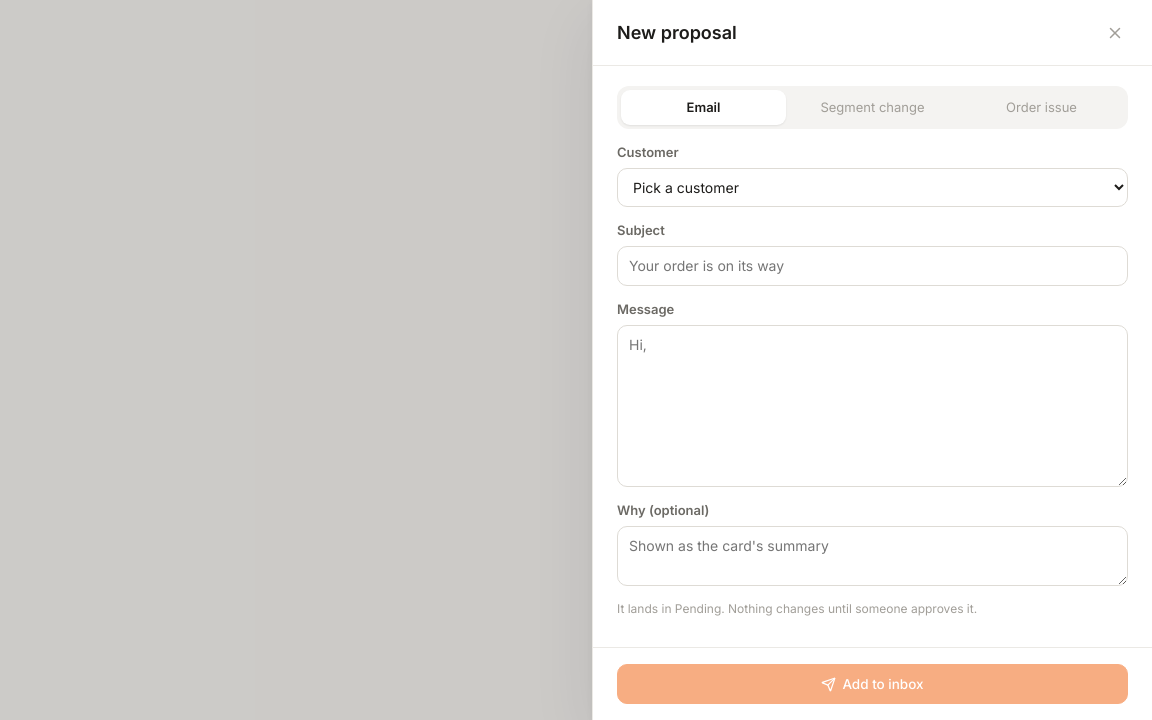
Test: NewProposal › shows the server error instead of closing
Select "Bob Smith · New · ₹999" in the dropdown labelled "Customer" at (872, 187), box top-left (617, 168), bottom-right (1128, 207)
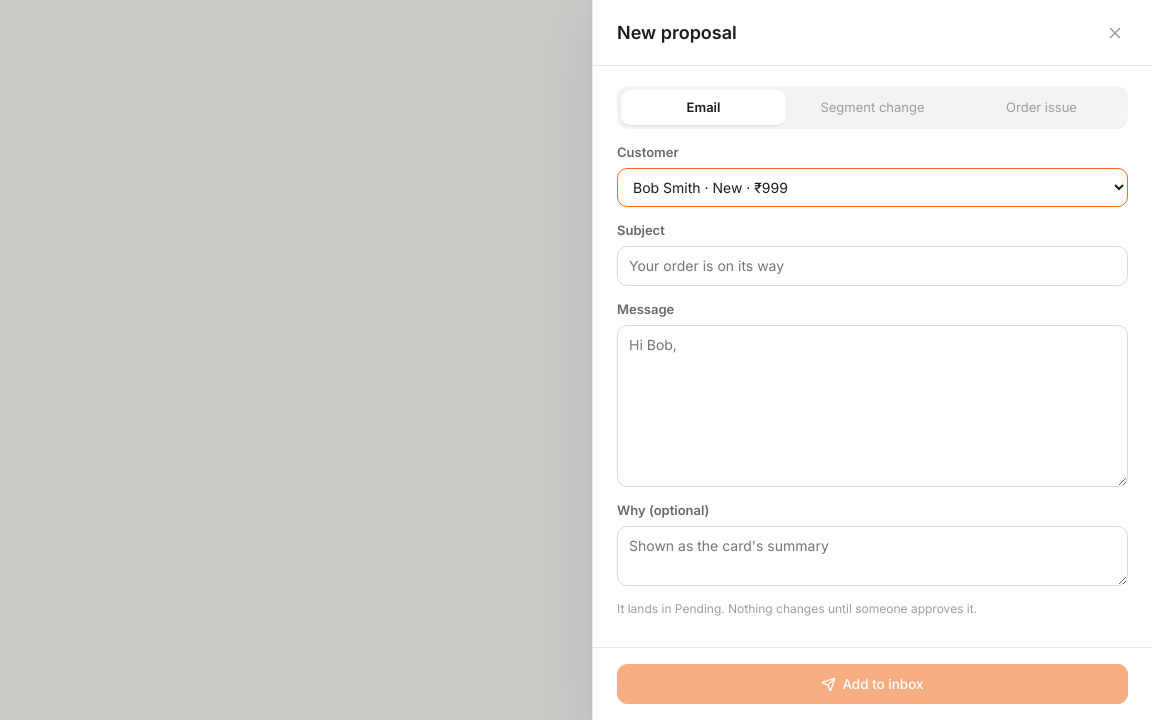
Type "a" into the field labelled "Subject" at (872, 266), box top-left (617, 246), bottom-right (1128, 286)
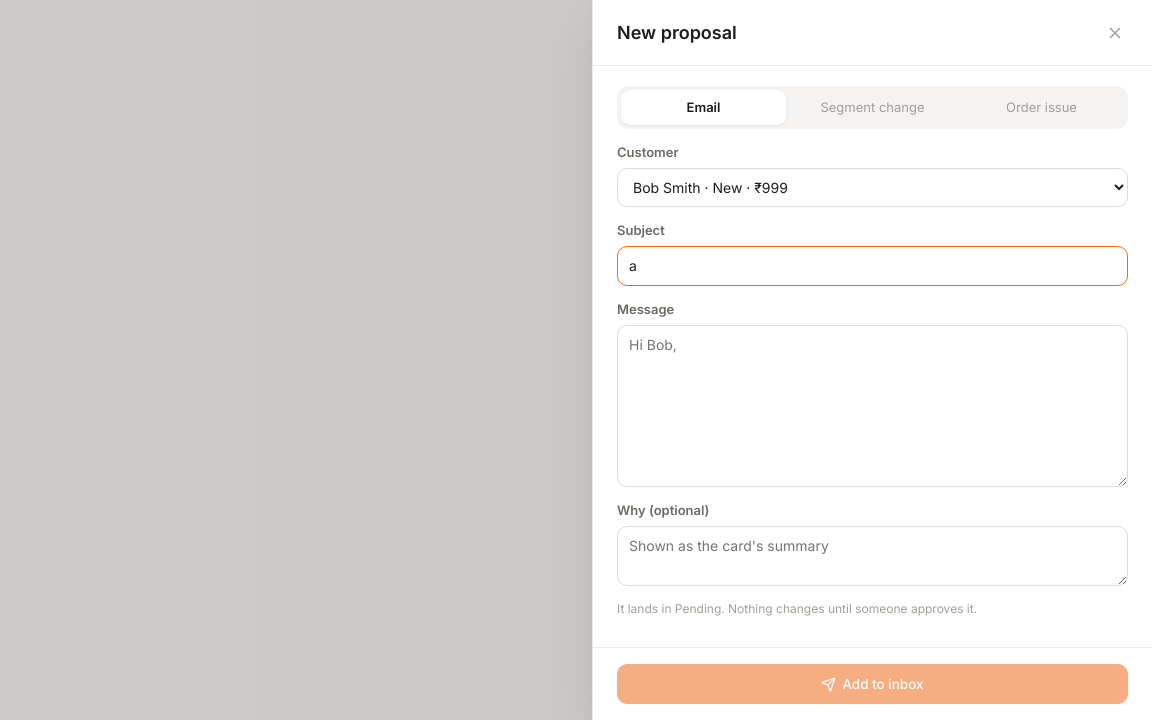
Type "b" into the text box labelled "Message" at (872, 406), box top-left (617, 325), bottom-right (1128, 487)
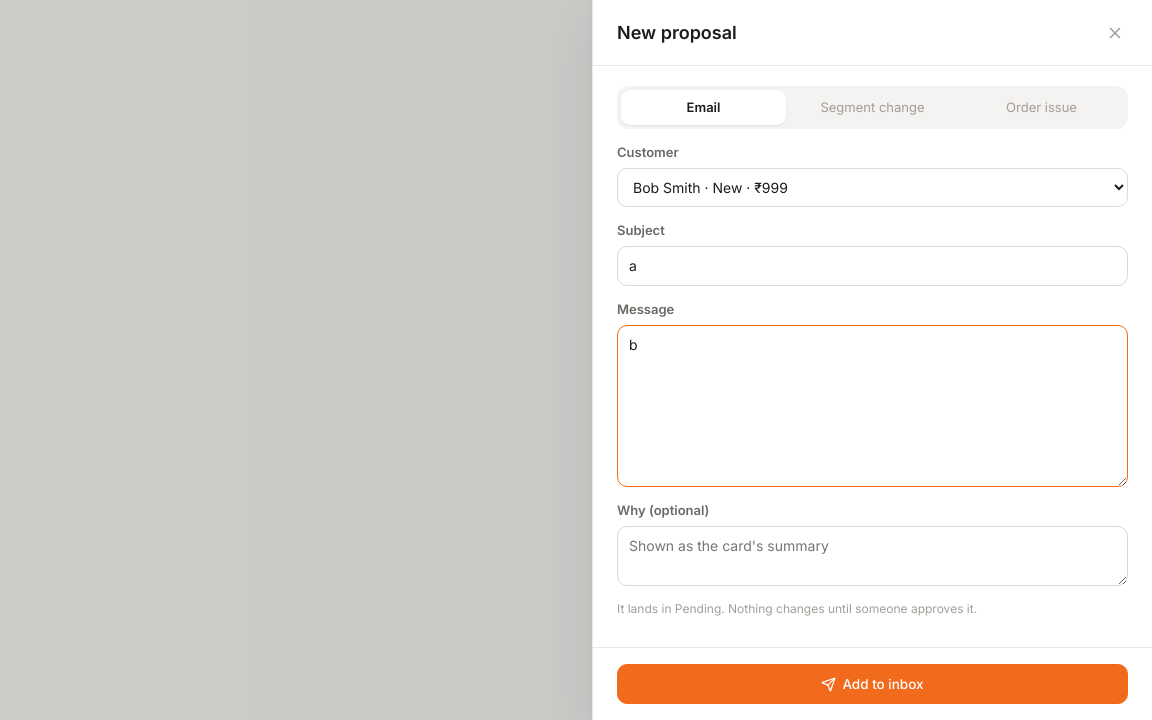
Click the button "Add to inbox" at (872, 684), box top-left (617, 664), bottom-right (1128, 704)
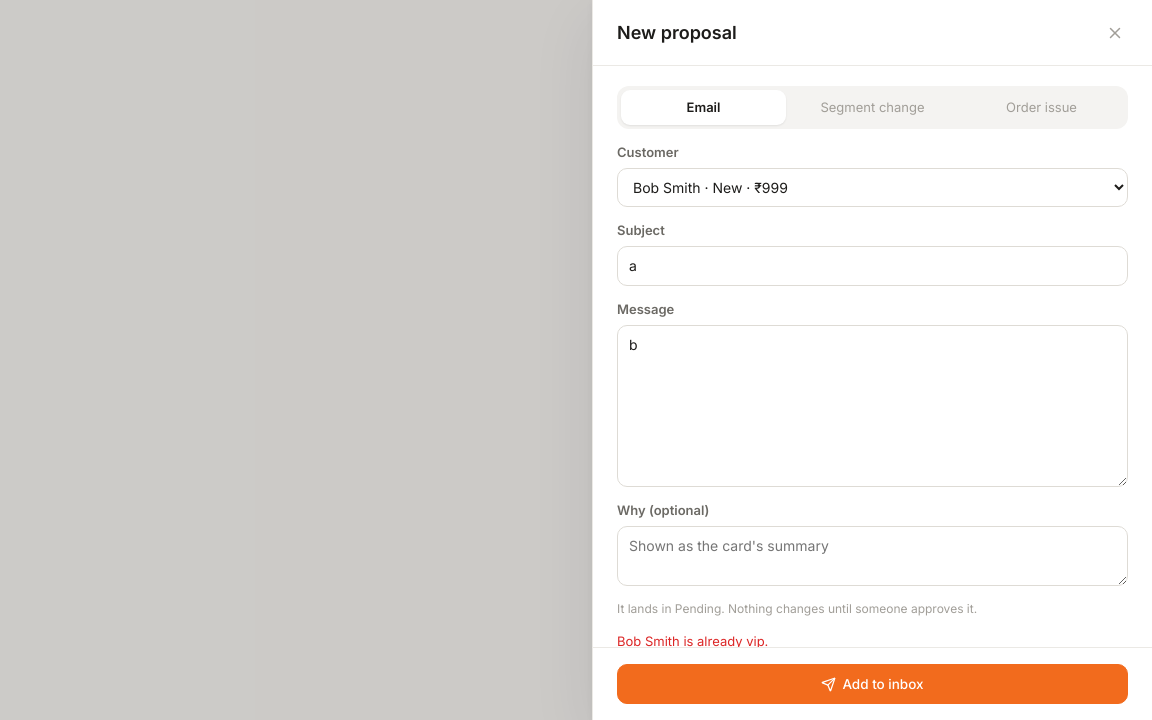
Check: the text "Bob Smith is already vip." is shown, box top-left (617, 633), bottom-right (768, 647)
